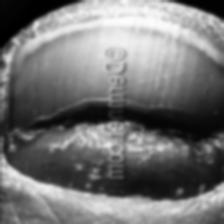Toxin: (126, 94, 224, 173), (12, 79, 105, 160)
